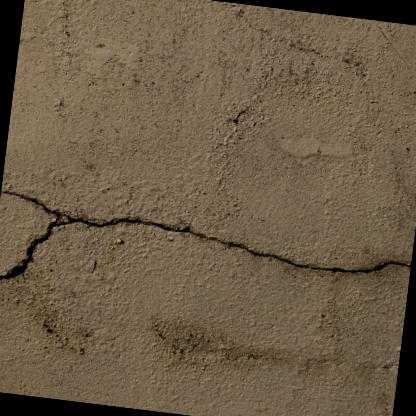crack: (0, 188, 411, 279)
